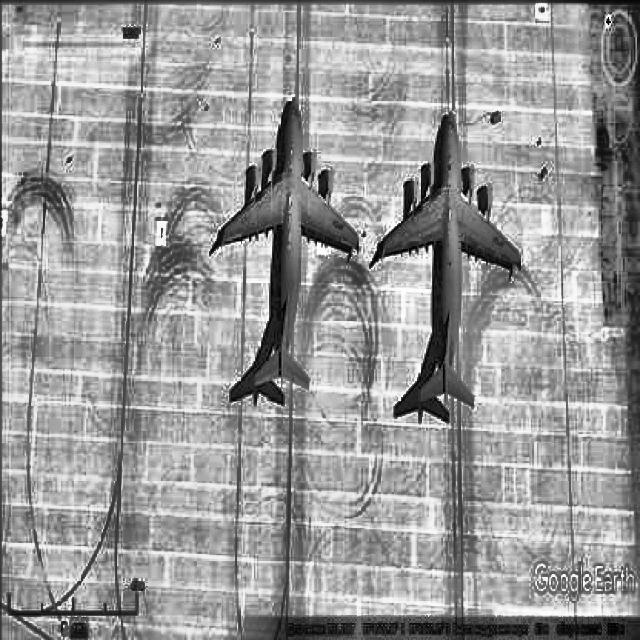C17: (379, 110, 521, 408), (219, 96, 359, 390)
